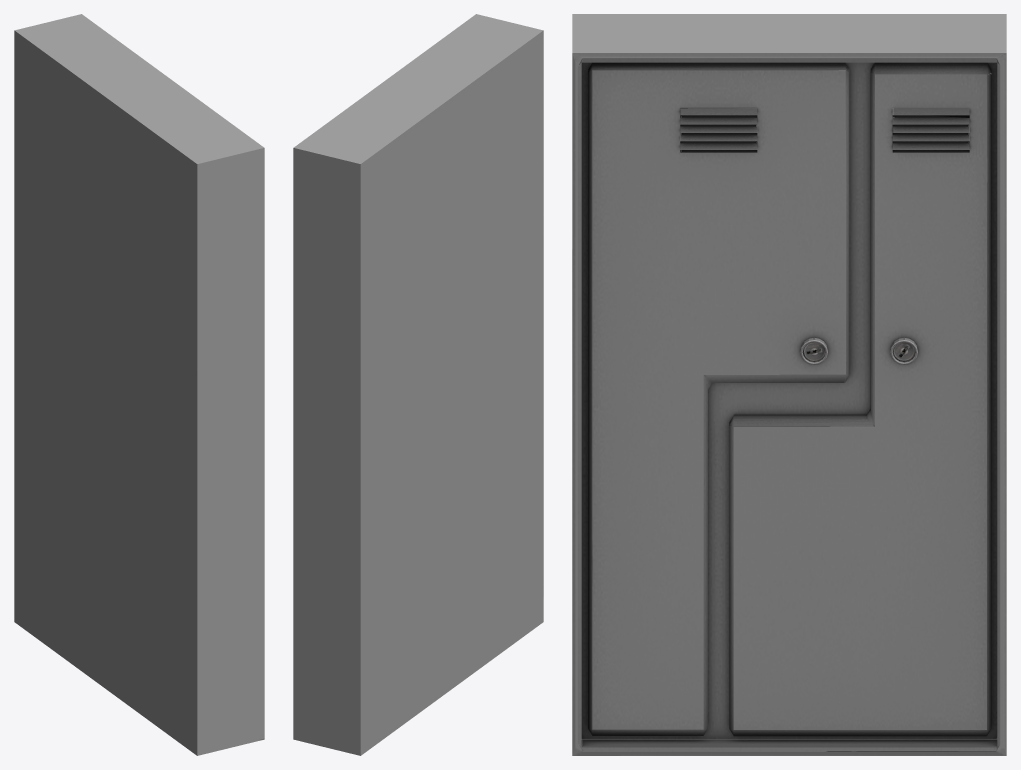
The model's file is szafkaucznia.fbx.
The picture shows the model from 3 angles, left to right: view 1: azimuth 30°, elevation 25°; view 2: azimuth 150°, elevation 25°; view 3: azimuth 270°, elevation 25°; orthographic projection. The views are drawn at different scales.
Visible parts, largest first — view 1: Cube; view 2: Cube; view 3: Cube.
Boxes of the visible parts, x1,y1,x2,y2 form: Cube: [14, 14, 264, 755]; Cube: [293, 14, 543, 755]; Cube: [572, 14, 1006, 755].
Size of the model in its own units: 33.53 by 280 by 157.
